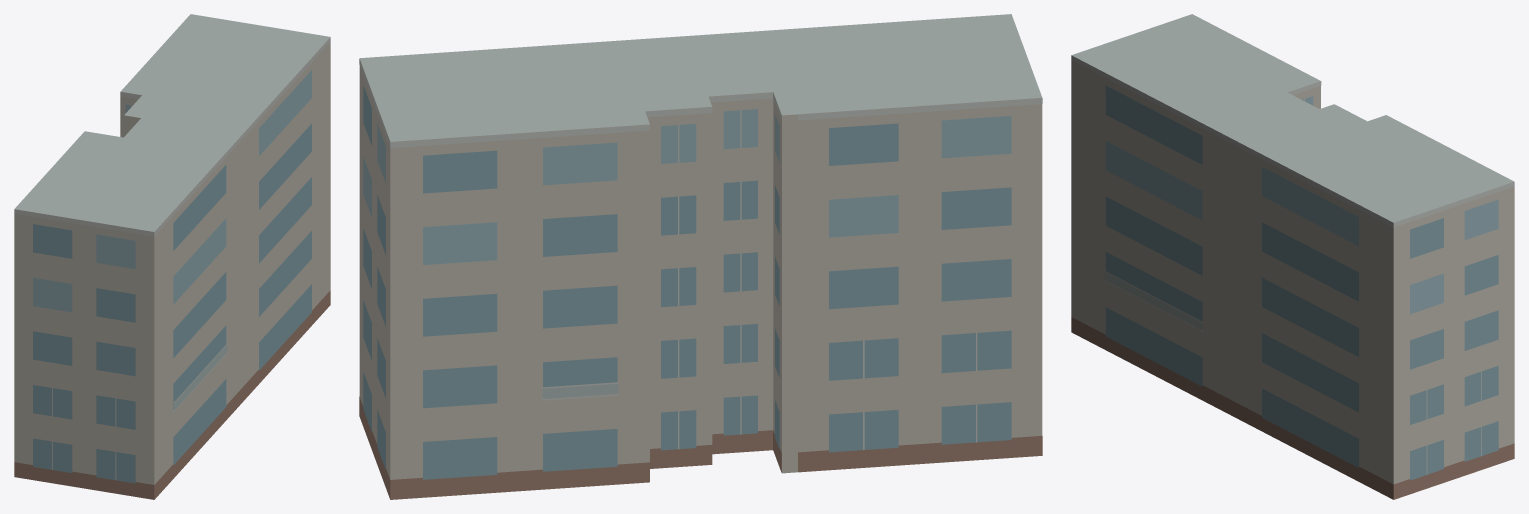
Rendered from survey-upis-33020685.glb.
3 renders of one model, left to right at view 1: azimuth 30°, elevation 25°; view 2: azimuth 150°, elevation 25°; view 3: azimuth 270°, elevation 25°, orthographic. The views are drawn at different scales.
Parts seen in each view (by area): view 1: survey-upis-33020685.tmp; view 2: survey-upis-33020685.tmp; view 3: survey-upis-33020685.tmp.
Part boxes in pixels (x1,y1,x2,y2): survey-upis-33020685.tmp: [14, 14, 330, 499]; survey-upis-33020685.tmp: [359, 14, 1042, 499]; survey-upis-33020685.tmp: [1071, 14, 1514, 499].
Bounding box in the file's own units: 23.04 × 14.25 × 20.67.
